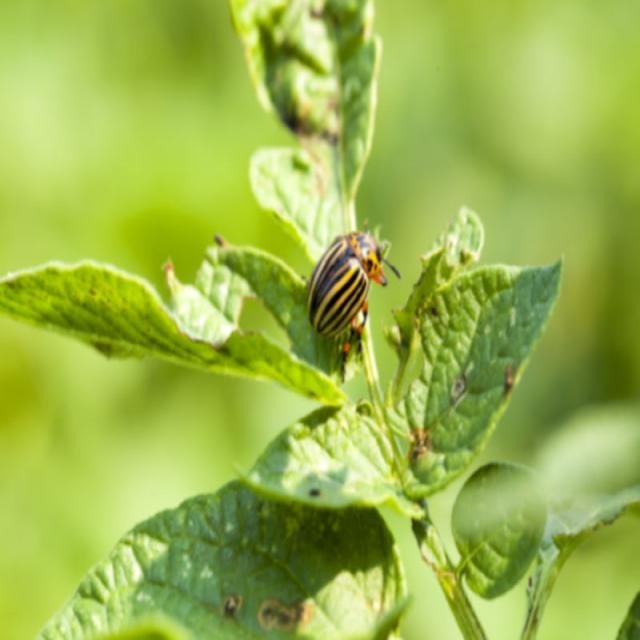ShuCaiHuaBanChong-Grown-: (301, 227, 384, 344)
